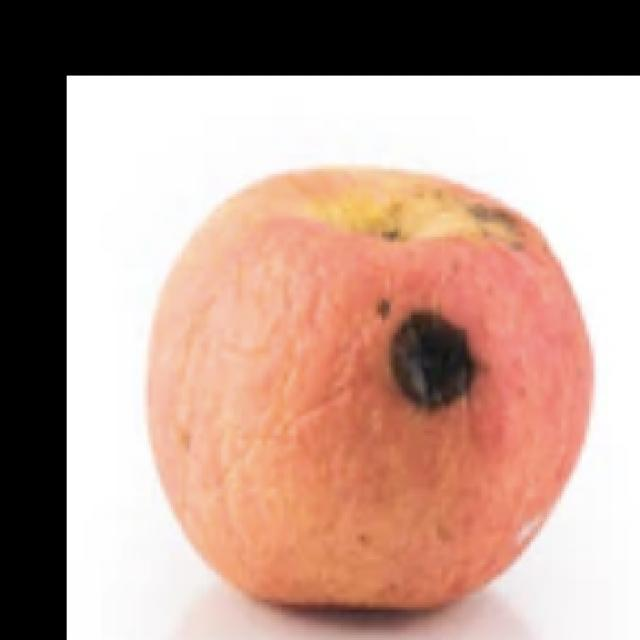Rotten: (147, 160, 595, 640)
